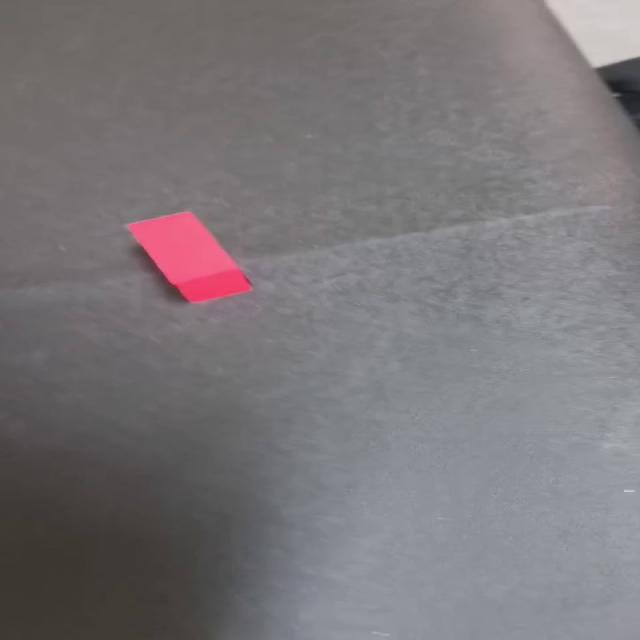red block: (125, 210, 252, 304)
